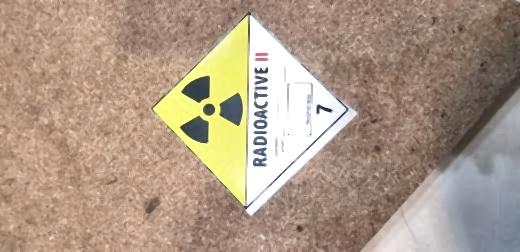radioactive: (148, 11, 356, 213)
